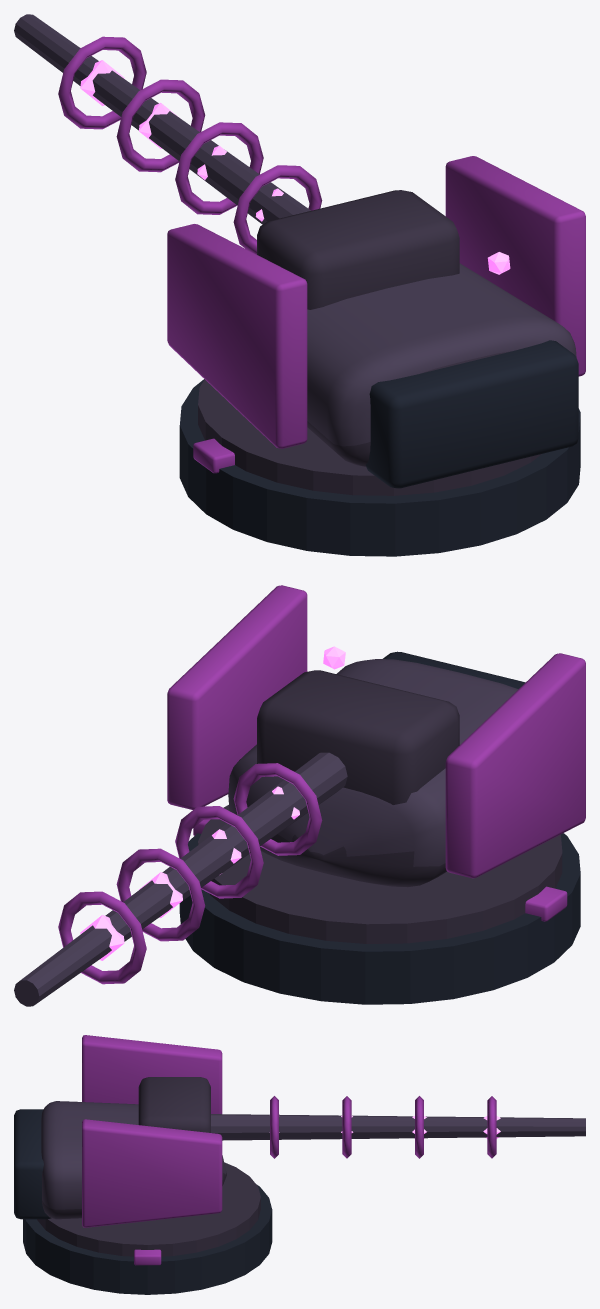
File: turret_nova_lances.glb
The picture shows the model from 3 angles, top to bottom: view 1: azimuth 30°, elevation 25°; view 2: azimuth 150°, elevation 25°; view 3: azimuth 270°, elevation 25°; orthographic projection. The views are drawn at different scales.
Parts seen in each view (by area): view 1: Yaw_mesh, Pitch_mesh, Base_mesh; view 2: Yaw_mesh, Base_mesh, Pitch_mesh; view 3: Yaw_mesh, Base_mesh, Pitch_mesh.
Boxes of the visible parts, x1=… form: Yaw_mesh: x1=167, y1=156, x2=585, y2=488; Pitch_mesh: x1=14, y1=14, x2=459, y2=309; Base_mesh: x1=179, y1=379, x2=580, y2=556; Yaw_mesh: x1=167, y1=585, x2=585, y2=887; Base_mesh: x1=179, y1=805, x2=580, y2=1004; Pitch_mesh: x1=14, y1=670, x2=459, y2=1006; Yaw_mesh: x1=14, y1=1035, x2=226, y2=1227; Base_mesh: x1=23, y1=1162, x2=272, y2=1294; Pitch_mesh: x1=138, y1=1077, x2=585, y2=1158.
Size of the model in its own units: 1.12 by 0.7881 by 2.53.
